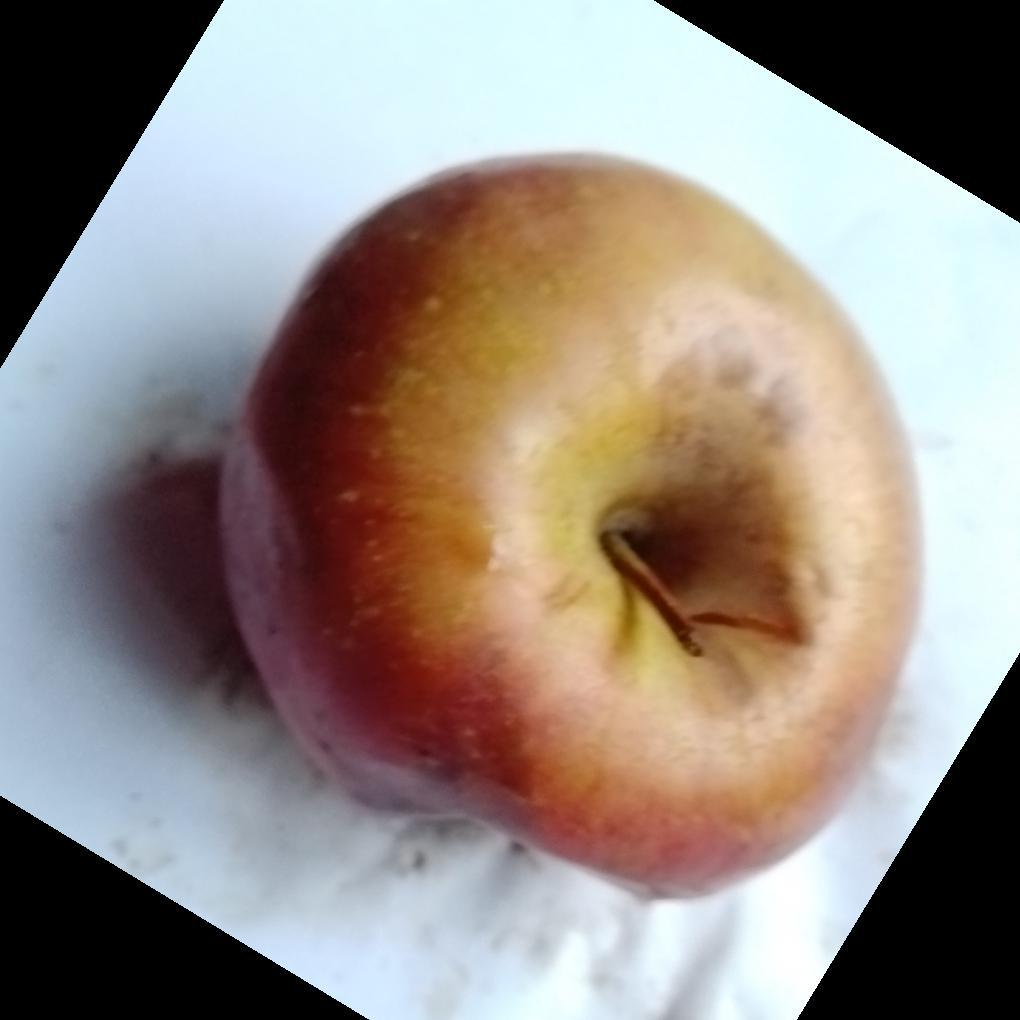FreshOrange: (214, 152, 927, 906)
